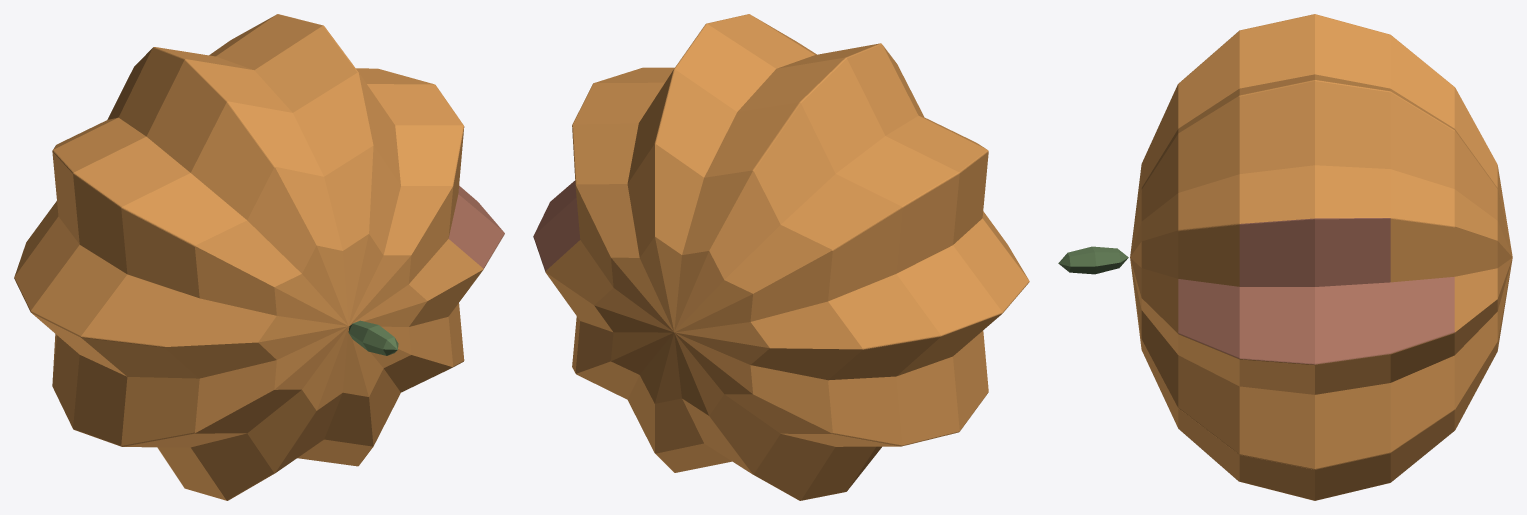
File: pumpkin.glb
The picture shows the model from 3 angles, left to right: view 1: azimuth 30°, elevation 25°; view 2: azimuth 150°, elevation 25°; view 3: azimuth 270°, elevation 25°; orthographic projection. The views are drawn at different scales.
Parts seen in each view (by area): view 1: pumpkin; view 2: pumpkin; view 3: pumpkin.
Boxes of the visible parts, left/top/right/bottom form: pumpkin: left=14, top=14, right=504, bottom=500; pumpkin: left=533, top=14, right=1029, bottom=500; pumpkin: left=1058, top=14, right=1512, bottom=500.
Bounding box in the file's own units: 0.2152 × 0.1972 × 0.193.
